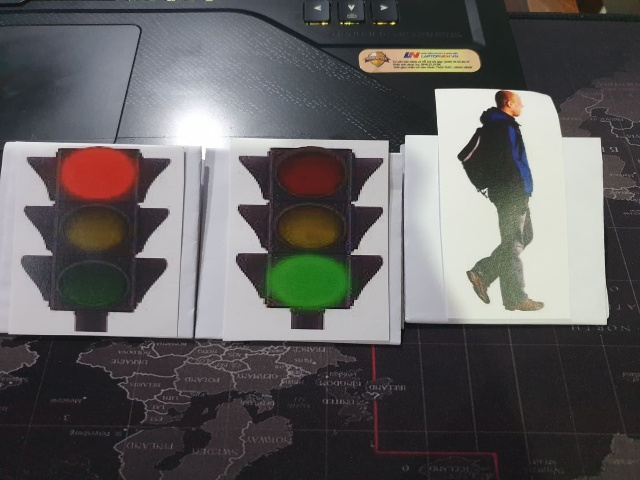Green: (230, 141, 383, 338)
Person: (439, 87, 555, 316)
Red: (15, 141, 167, 340)
